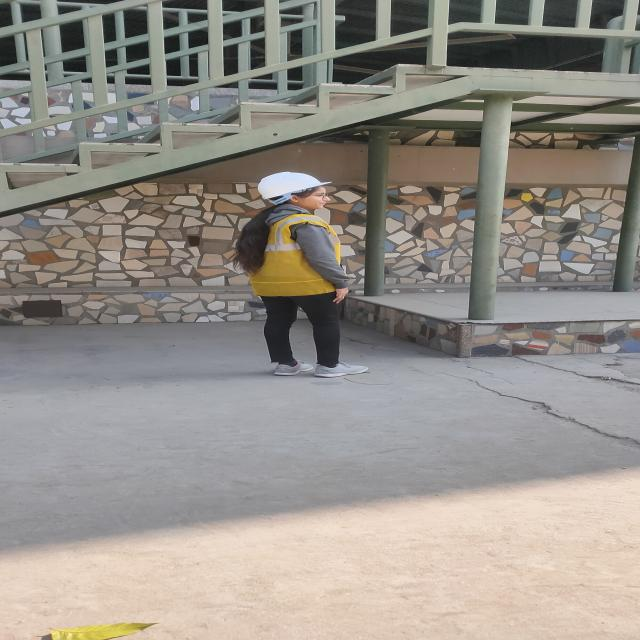safe: (246, 172, 350, 377)
